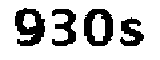0: (82, 6, 115, 54)
3: (49, 6, 78, 52)
9: (10, 6, 46, 50)
s: (117, 16, 145, 51)
